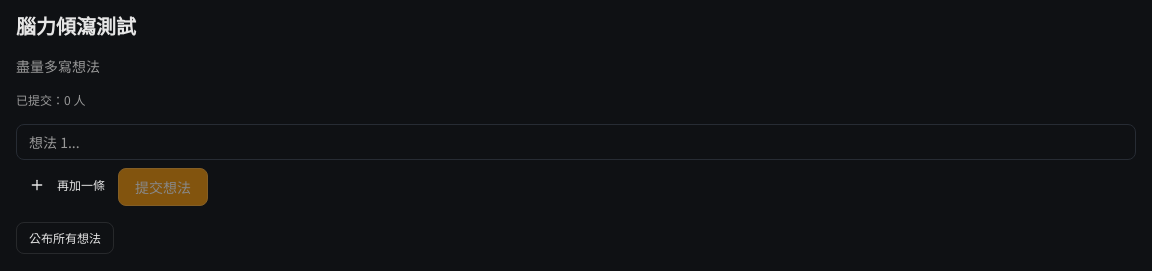
BrainDump — 互動 › 填寫一條想法後送出鈕可點
Step 1. Type "好主意" into the field with test id "bd-idea-0" → (576,142), box [16,124,1136,160]
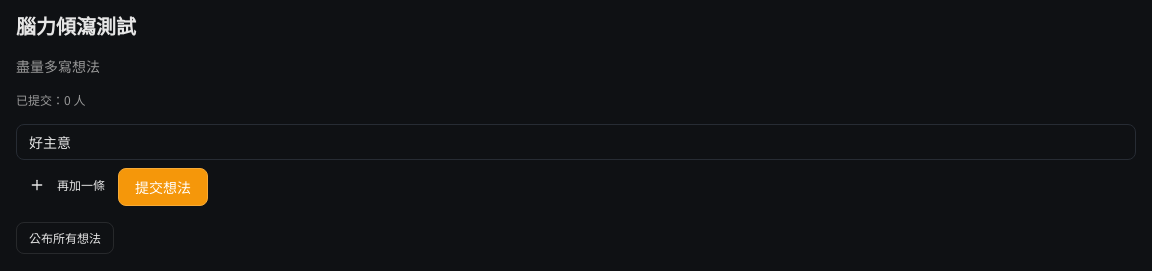
expect the button with test id "bd-submit-btn" is enabled: met, box [118,168,208,206]
